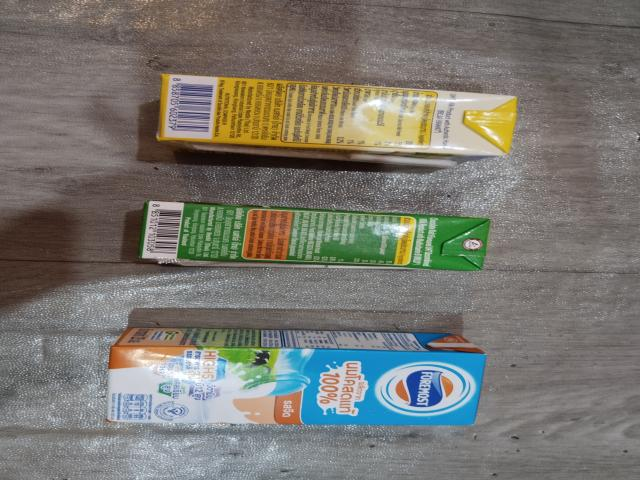drink_box: (94, 324, 493, 432), (149, 71, 530, 173), (134, 197, 503, 278)
